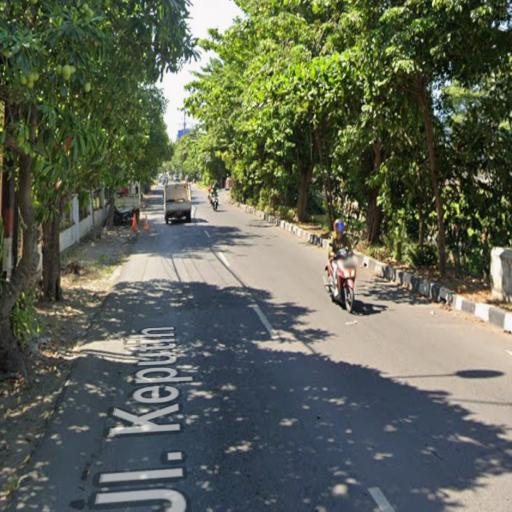Helmet: (334, 220, 344, 233)
Motor: (324, 248, 356, 312), (114, 208, 139, 225), (210, 192, 218, 211)
